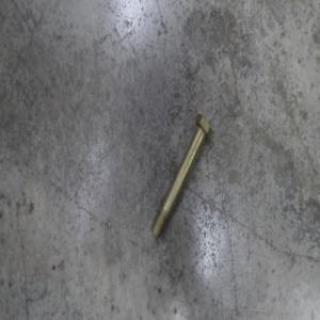Bolttrack_idkeyframe: (149, 112, 211, 240)
